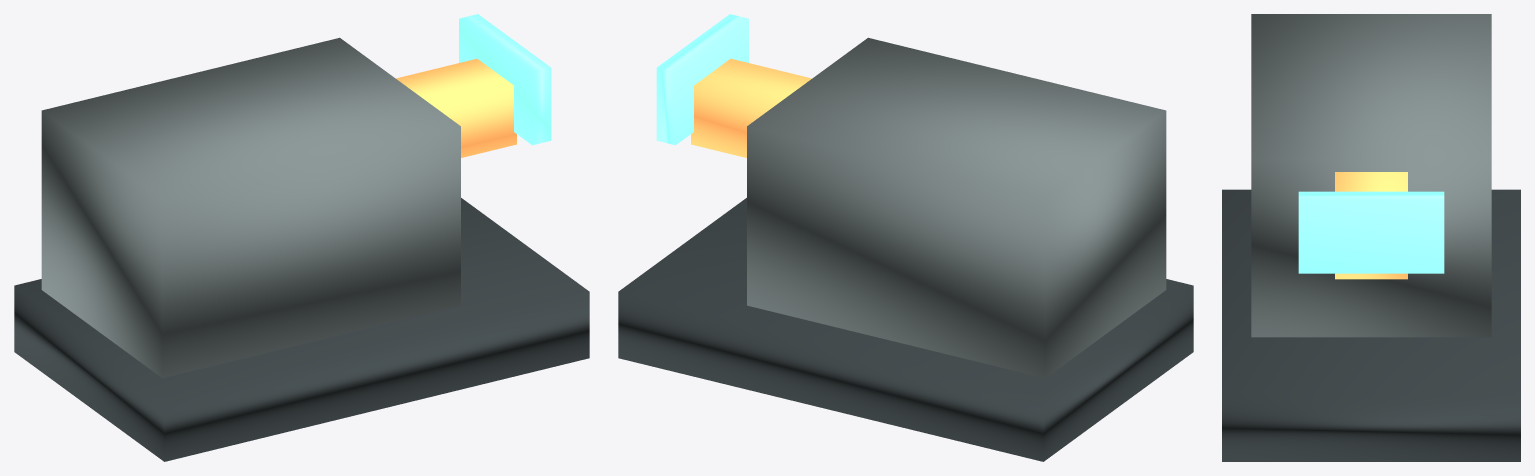
File: jovian-harvester-deck-mass-trim-lod2.glb
The picture shows the model from 3 angles, left to right: view 1: azimuth 30°, elevation 25°; view 2: azimuth 150°, elevation 25°; view 3: azimuth 270°, elevation 25°; orthographic projection.
Parts seen in each view (by area): view 1: jovian-harvester-deck-mass-trim-carriage, jovian-harvester-deck-mass-trim-skid, jovian-harvester-deck-mass-trim-actuator, jovian-harvester-interactable-status; view 2: jovian-harvester-deck-mass-trim-carriage, jovian-harvester-deck-mass-trim-skid, jovian-harvester-deck-mass-trim-actuator, jovian-harvester-interactable-status; view 3: jovian-harvester-deck-mass-trim-carriage, jovian-harvester-deck-mass-trim-skid, jovian-harvester-interactable-status, jovian-harvester-deck-mass-trim-actuator.
Boxes of the visible parts, left/top/right/bottom form: jovian-harvester-deck-mass-trim-carriage: left=41, top=37, right=460, bottom=378; jovian-harvester-deck-mass-trim-skid: left=14, top=198, right=589, bottom=461; jovian-harvester-deck-mass-trim-actuator: left=396, top=58, right=516, bottom=157; jovian-harvester-interactable-status: left=459, top=14, right=551, bottom=145; jovian-harvester-deck-mass-trim-carriage: left=747, top=37, right=1166, bottom=378; jovian-harvester-deck-mass-trim-skid: left=618, top=198, right=1193, bottom=461; jovian-harvester-deck-mass-trim-actuator: left=691, top=58, right=811, bottom=157; jovian-harvester-interactable-status: left=656, top=14, right=748, bottom=145; jovian-harvester-deck-mass-trim-carriage: left=1251, top=14, right=1491, bottom=337; jovian-harvester-deck-mass-trim-skid: left=1222, top=189, right=1520, bottom=461; jovian-harvester-interactable-status: left=1298, top=191, right=1444, bottom=273; jovian-harvester-deck-mass-trim-actuator: left=1335, top=172, right=1407, bottom=279.
Size of the model in its own units: 1.34 by 0.79 by 0.82.
